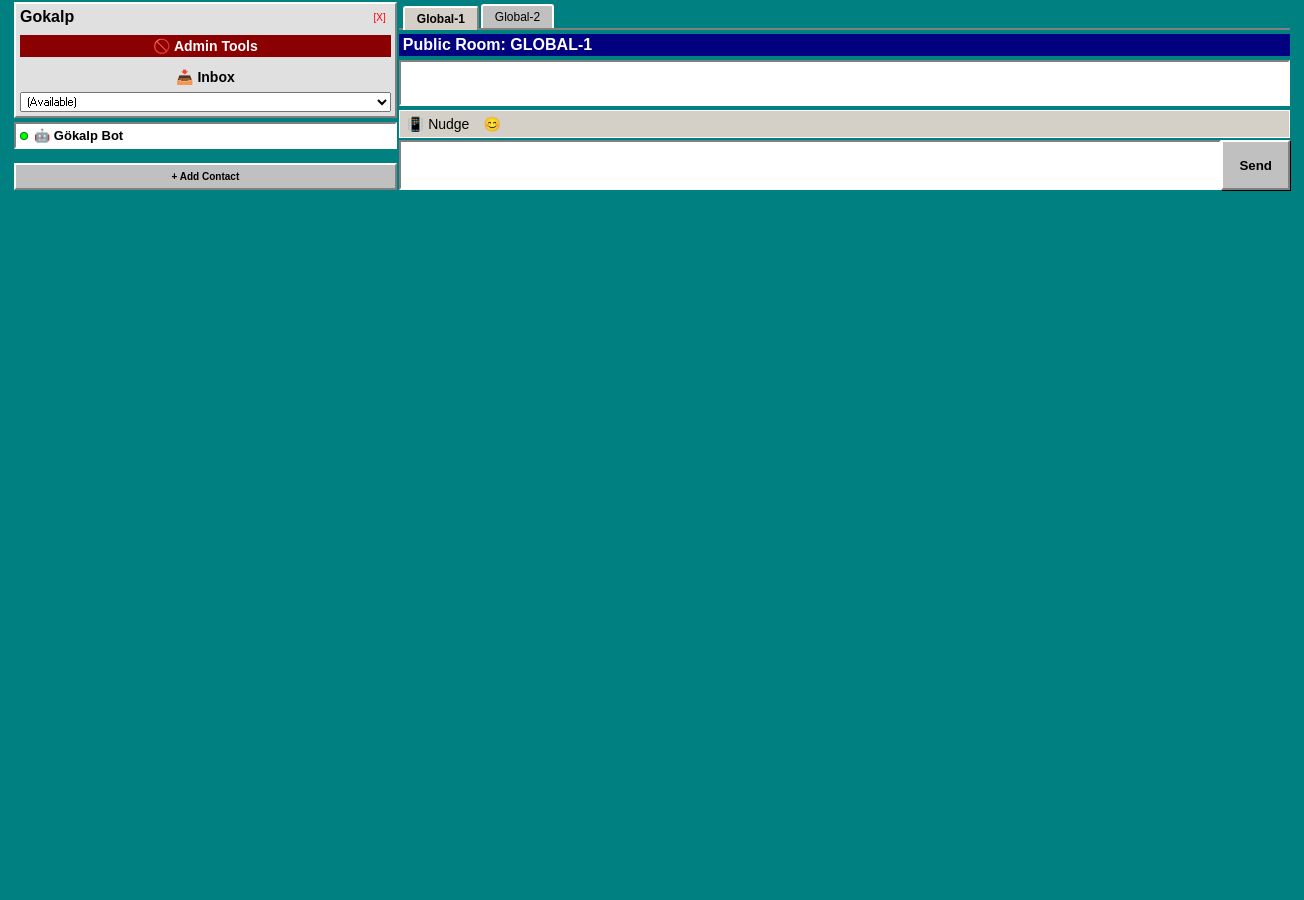
Test: admin tools › shows anonymous app-usage totals to admins, most-opened first
Step 1. Click the button "🚫 Admin Tools" → coordinates (205, 46), box 20,35 -> 391,57
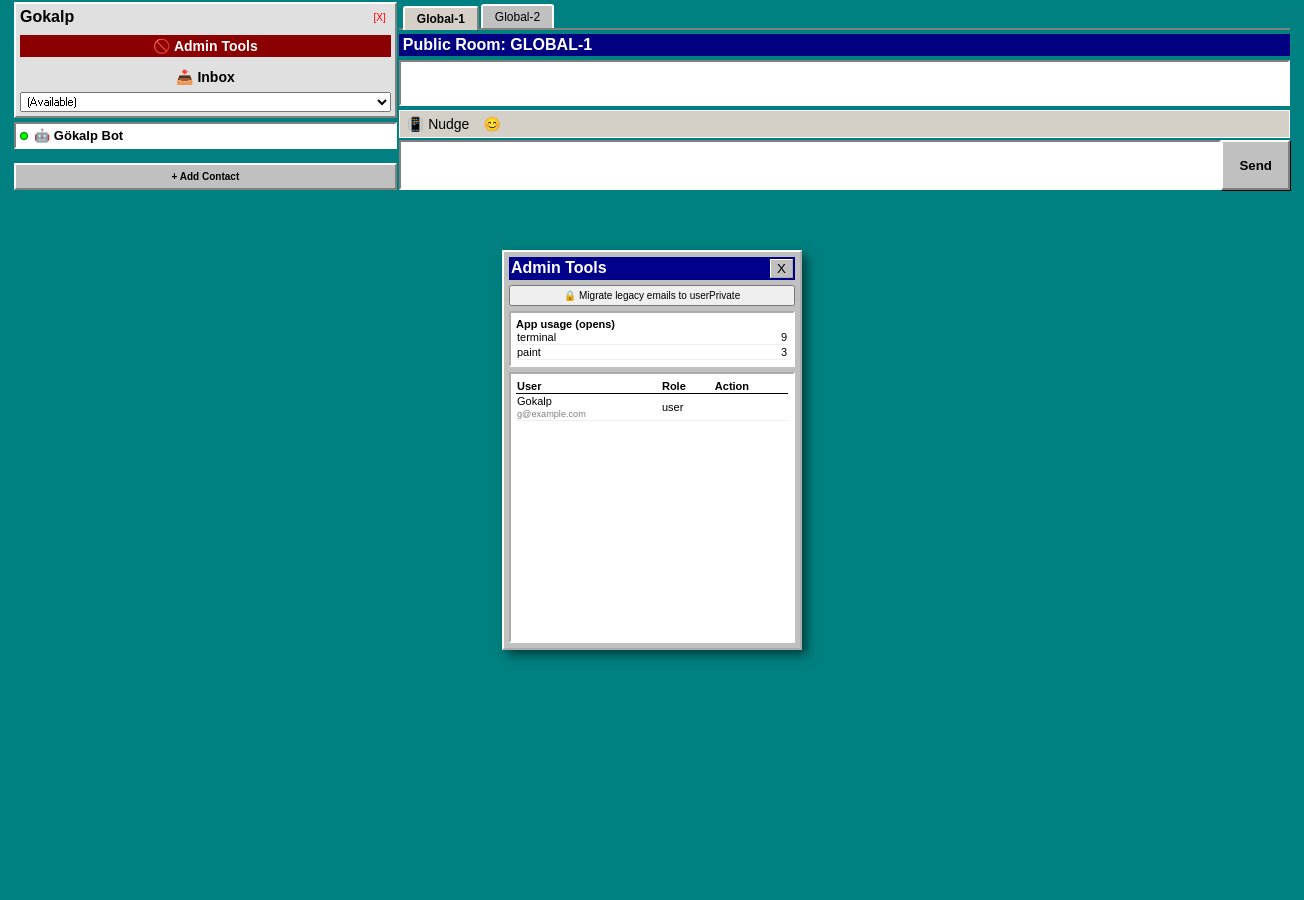
Expected: the text "terminal" is shown, 516,330 -> 743,344
